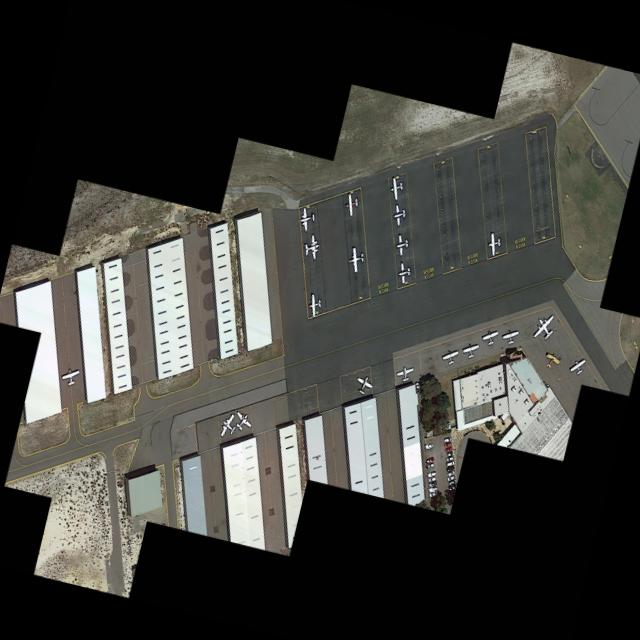plane: (529, 309, 558, 346), (217, 410, 239, 441), (232, 407, 254, 435), (353, 371, 375, 397), (298, 204, 315, 233), (347, 246, 364, 275), (303, 233, 319, 262), (61, 366, 81, 387), (389, 174, 404, 201), (344, 190, 359, 217), (569, 356, 588, 377), (542, 350, 561, 371), (307, 291, 321, 318), (392, 201, 406, 227), (396, 363, 414, 383), (395, 234, 409, 255), (487, 232, 500, 254), (398, 261, 410, 284), (502, 327, 518, 344), (482, 328, 498, 345), (462, 341, 478, 358), (442, 347, 457, 365)
small-vehicle: (446, 464, 454, 472), (428, 470, 436, 477), (448, 478, 456, 485), (445, 445, 452, 452), (425, 443, 433, 449), (446, 460, 454, 466), (429, 485, 436, 491), (429, 480, 436, 486), (427, 462, 434, 468), (426, 457, 433, 463), (429, 491, 436, 497), (447, 475, 454, 481), (447, 470, 454, 476), (444, 437, 451, 442), (444, 442, 451, 447), (446, 456, 453, 461), (429, 476, 435, 481), (446, 451, 452, 456)
